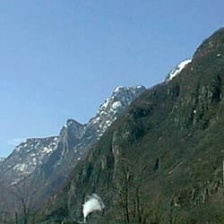neutral: (4, 8, 222, 221)
